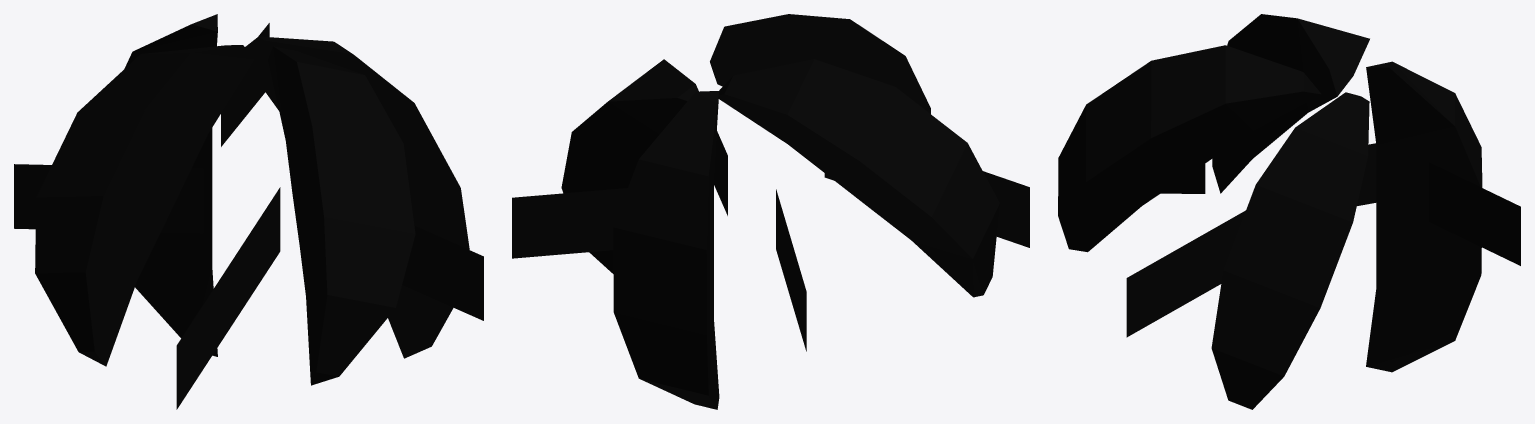
Rendered from impact_06.glb.
3 renders of one model, left to right at view 1: azimuth 30°, elevation 25°; view 2: azimuth 150°, elevation 25°; view 3: azimuth 270°, elevation 25°, orthographic. The views are drawn at different scales.
Size of the model in its own units: 2.05 by 1.64 by 2.13.
Materials: 1 (1 with a texture image).
